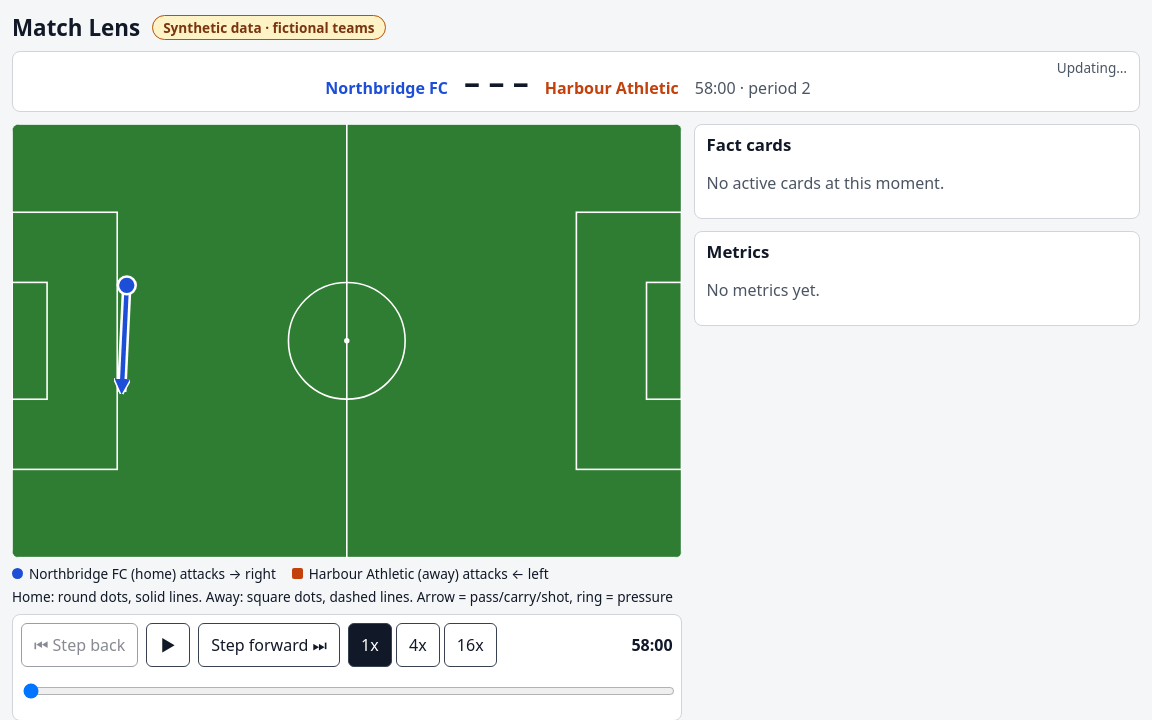
Test: 1. never show analysis from past the watermark › hides the post-goal score when scrubbing back while the new request hangs
Set the slider named "Replay position" to "65" at (461, 691), box [23, 675, 675, 707]
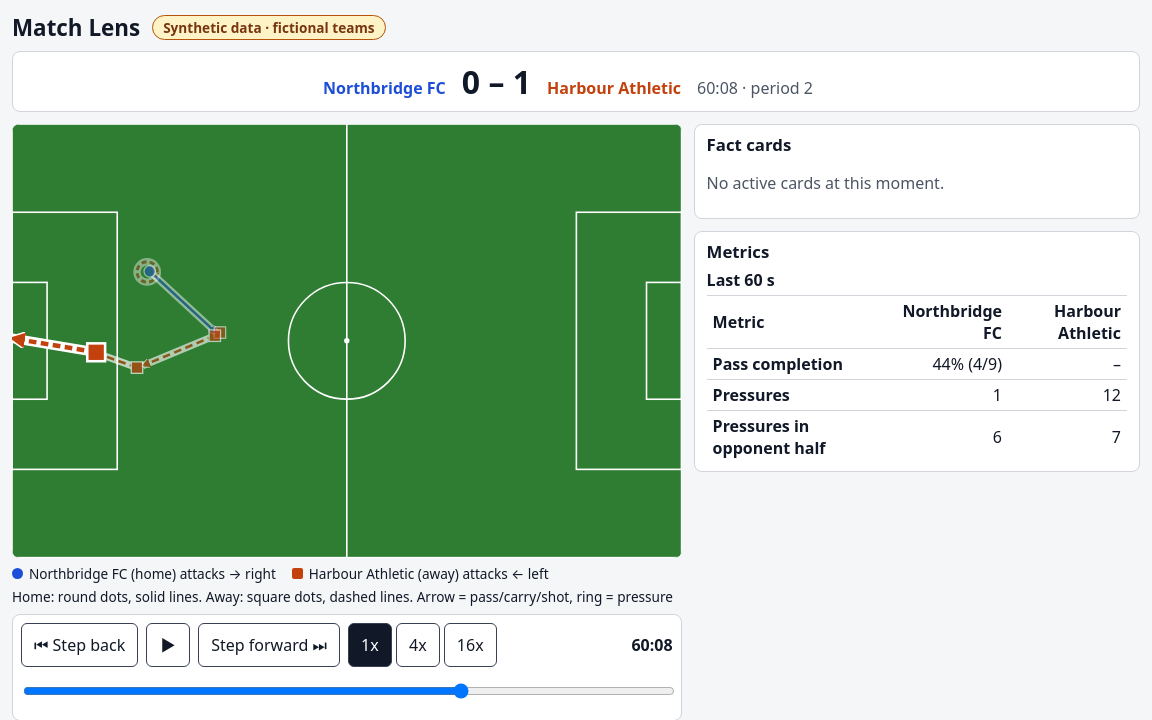
Now the text named "Away score" reads "1", box [513, 60, 531, 103]
Set the slider named "Replay position" to "59" at (422, 691), box [23, 675, 675, 707]
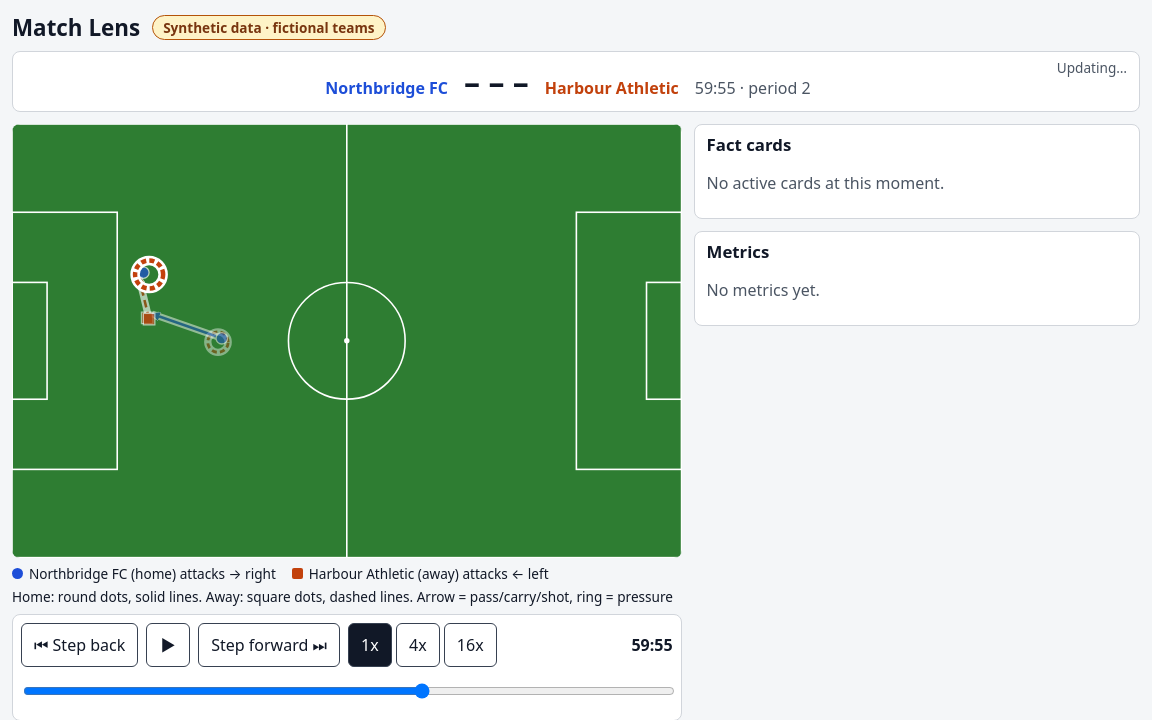
Now the text "No metrics yet." is shown, box [707, 279, 820, 301]
Now the text named "Away score" reads "–", box [513, 60, 529, 103]
